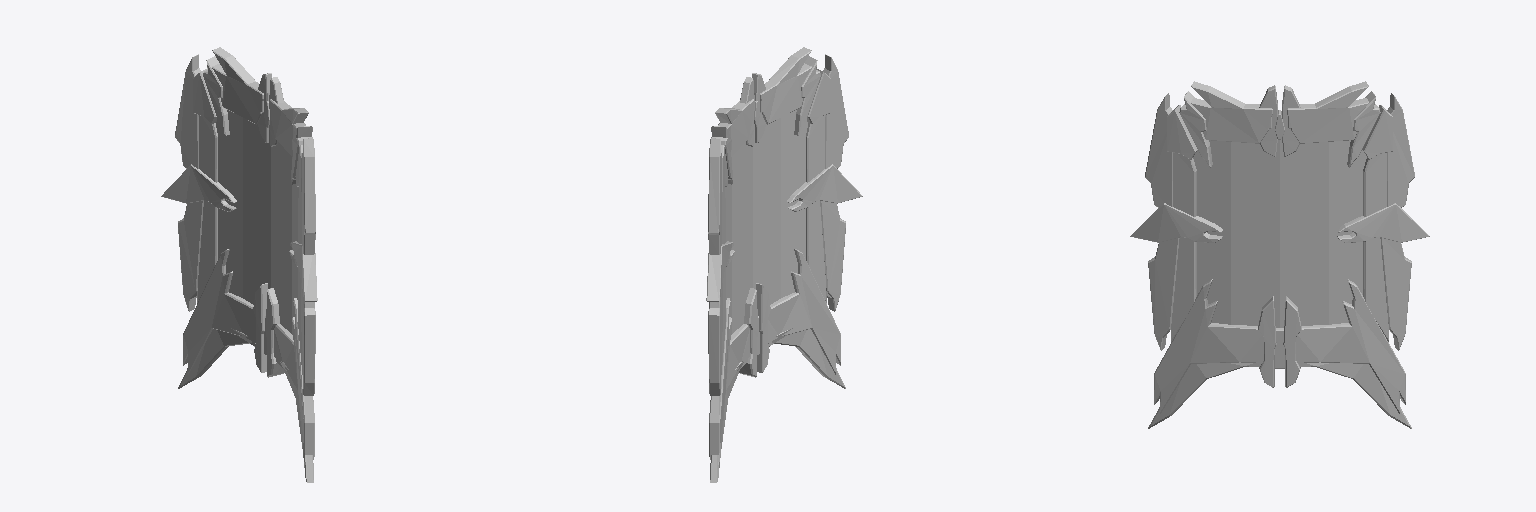
The model's file is decepticon_brute_shield.obj.
3 renders of one model, left to right at view 1: azimuth 30°, elevation 25°; view 2: azimuth 150°, elevation 25°; view 3: azimuth 270°, elevation 25°, orthographic.
Visible parts, largest first — view 1: WEP_ShieldBruteD_Lrg_SKEL.mo_WEP_ShieldBruteD_Lrg_SKEL.md; view 2: WEP_ShieldBruteD_Lrg_SKEL.mo_WEP_ShieldBruteD_Lrg_SKEL.md; view 3: WEP_ShieldBruteD_Lrg_SKEL.mo_WEP_ShieldBruteD_Lrg_SKEL.md.
Boxes of the visible parts, box(x1,y1,x2,y2) form: WEP_ShieldBruteD_Lrg_SKEL.mo_WEP_ShieldBruteD_Lrg_SKEL.md: box(161, 47, 317, 482); WEP_ShieldBruteD_Lrg_SKEL.mo_WEP_ShieldBruteD_Lrg_SKEL.md: box(706, 47, 862, 482); WEP_ShieldBruteD_Lrg_SKEL.mo_WEP_ShieldBruteD_Lrg_SKEL.md: box(1130, 81, 1429, 428).
Bounding box in the file's own units: 0.6855 × 5.02 × 3.85.